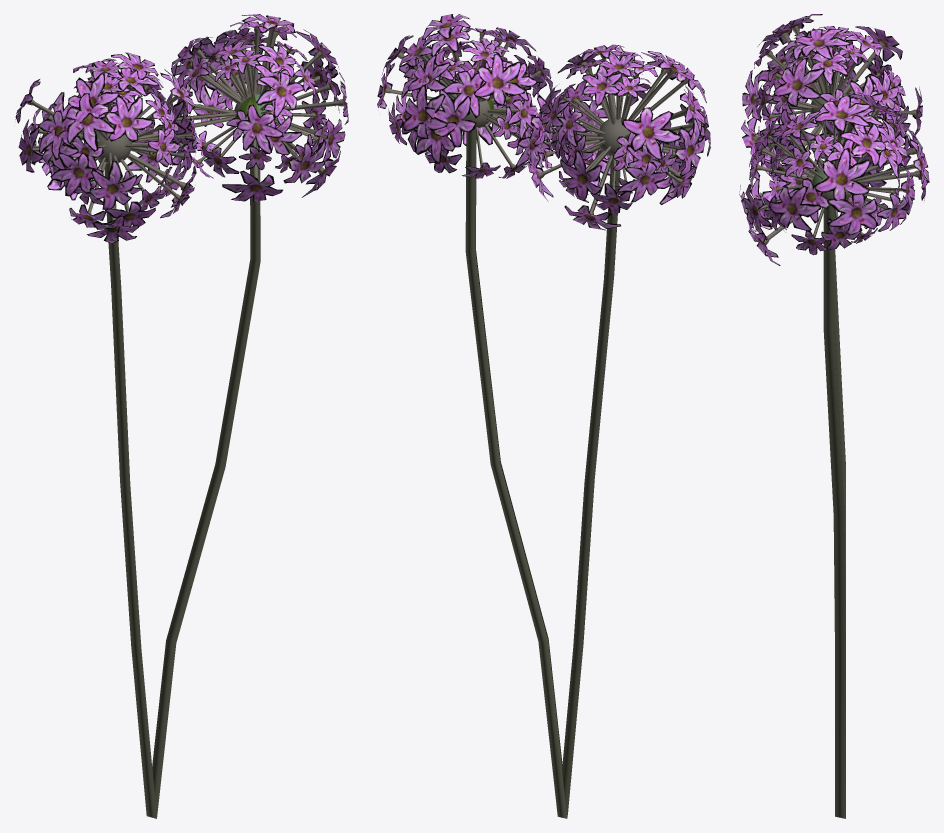
File: OnionSprigs.glb
3 renders of one model, left to right at view 1: azimuth 30°, elevation 25°; view 2: azimuth 150°, elevation 25°; view 3: azimuth 270°, elevation 25°, orthographic.
Parts seen in each view (by area): view 1: Onion_Sprig_02, Onion_Sprig_01; view 2: Onion_Sprig_01, Onion_Sprig_02; view 3: Onion_Sprig_02, Onion_Sprig_01.
Boxes of the visible parts, <box> form: Onion_Sprig_02: <box>152,14,348,817</box>; Onion_Sprig_01: <box>15,52,196,818</box>; Onion_Sprig_01: <box>525,44,710,817</box>; Onion_Sprig_02: <box>377,14,567,818</box>; Onion_Sprig_02: <box>739,92,929,818</box>; Onion_Sprig_01: <box>741,14,922,633</box>.
Bounding box in the file's own units: 0.2115 × 0.502 × 0.1127.
1 material, 1 textured.
